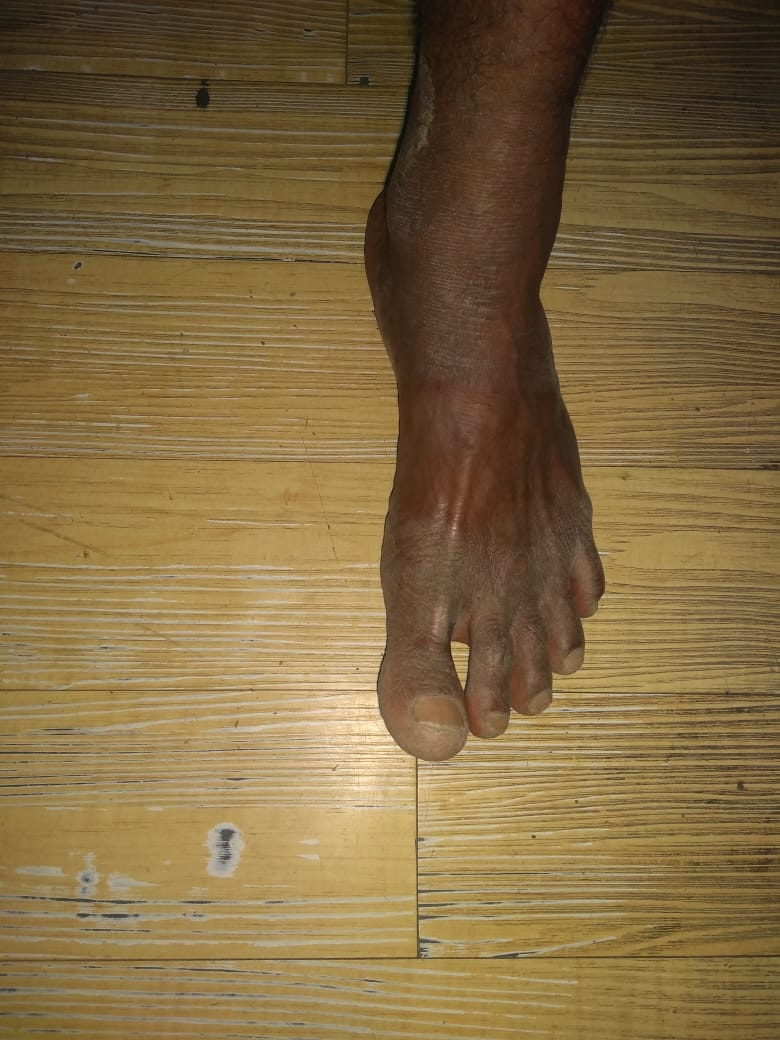feet: (310, 146, 625, 768)
